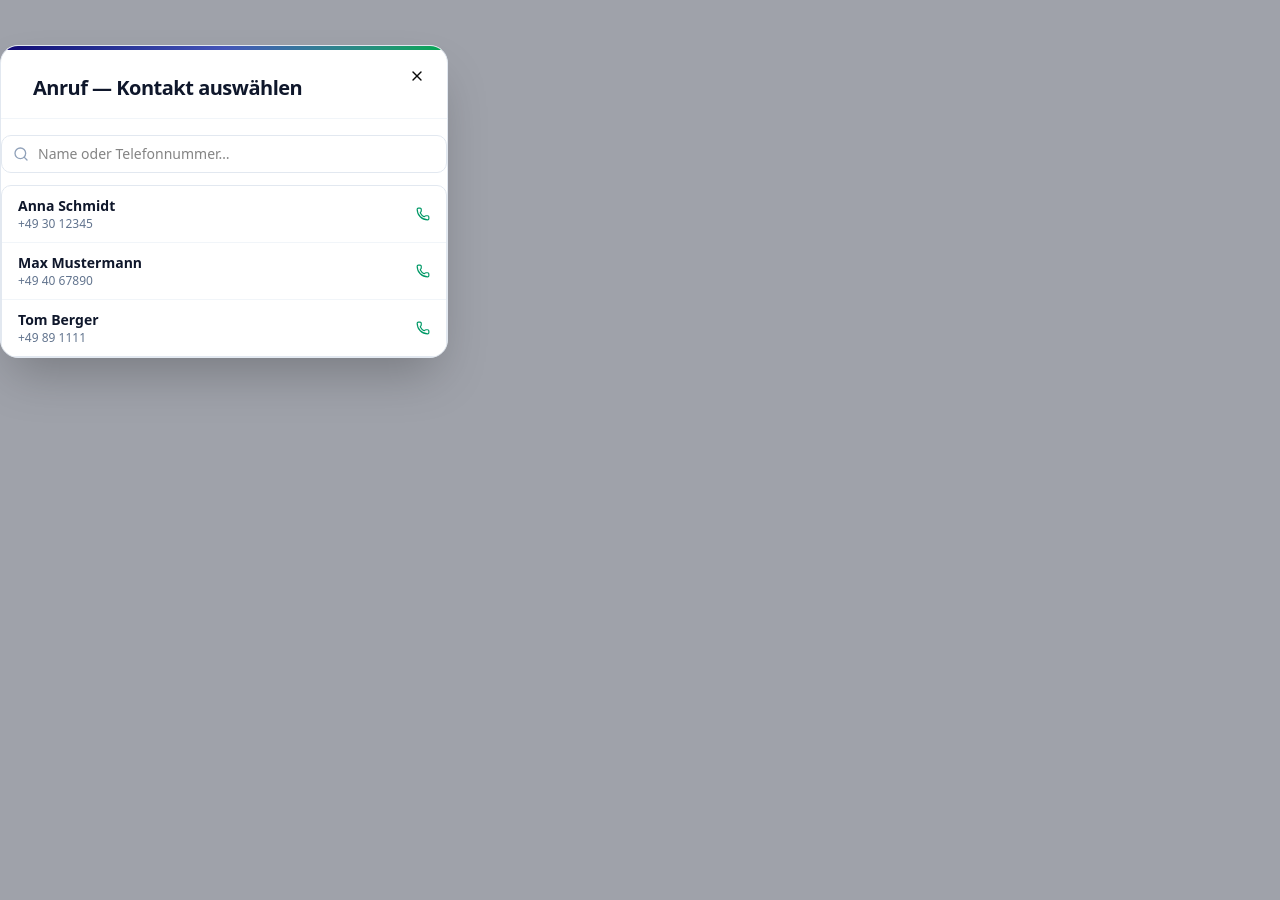
Test: ContactPickerDialog › filters by name substring (case insensitive)
The width and height of the screenshot is (1280, 900).
Type "muster" into the field with test id "contact-picker-input".
click(224, 154); type("muster")  # box [1,135,447,173]
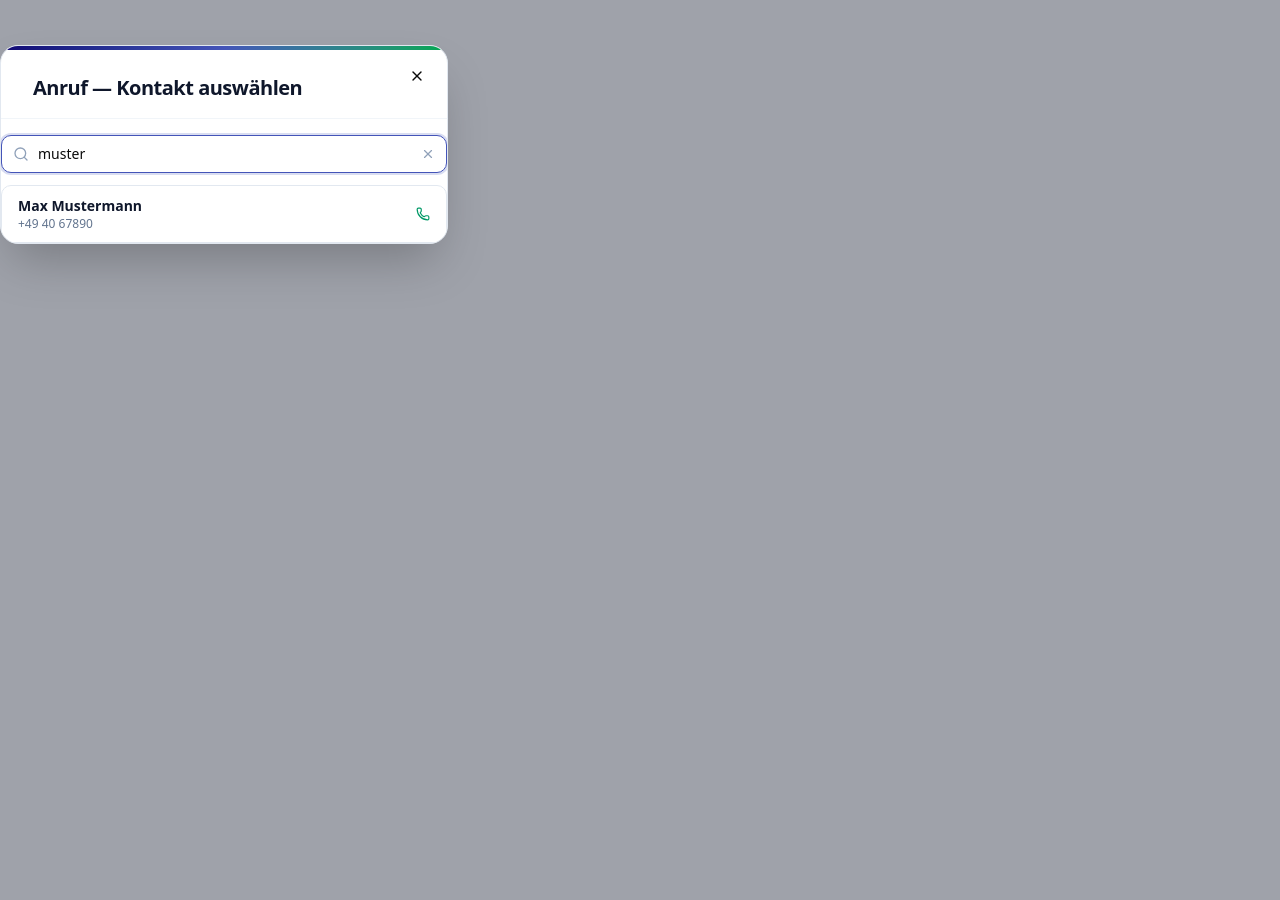
Expected: the link with test id "contact-picker-result-c2" is shown, [2,186,446,242]
Now the link with test id "contact-picker-result-c1" is gone
